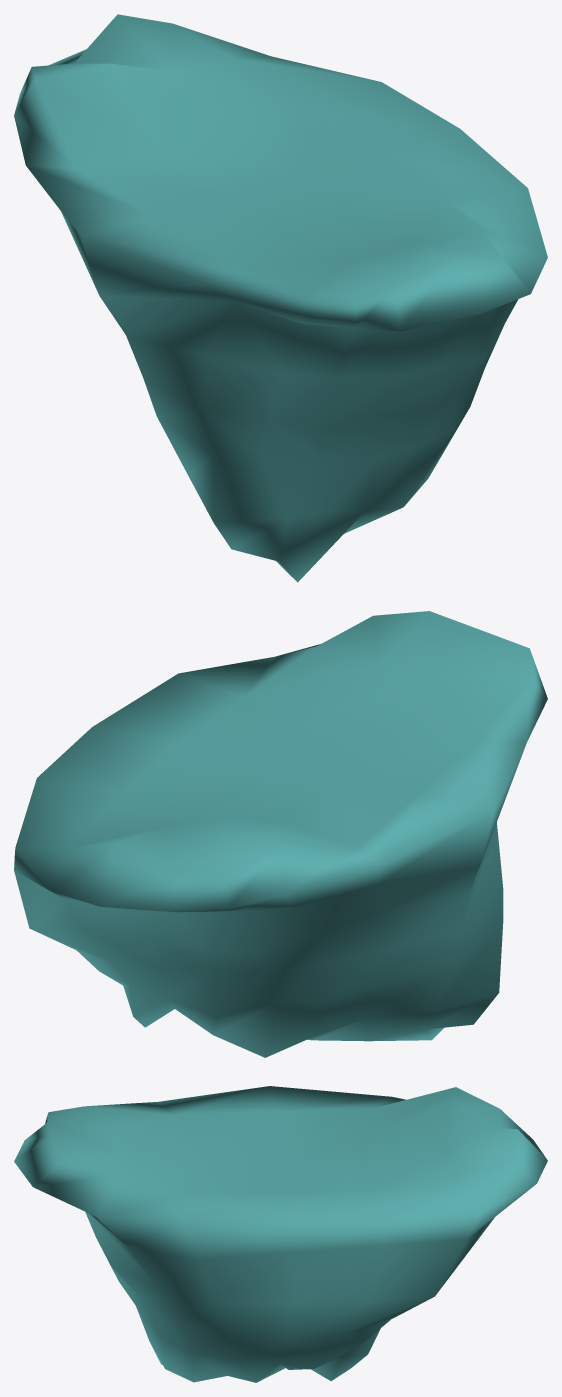
Rendered from pillarbase.fbx.
The picture shows the model from 3 angles, top to bottom: view 1: azimuth 30°, elevation 25°; view 2: azimuth 150°, elevation 25°; view 3: azimuth 270°, elevation 25°; orthographic projection. The views are drawn at different scales.
Parts seen in each view (by area): view 1: pillarbase_low; view 2: pillarbase_low; view 3: pillarbase_low.
Boxes of the visible parts, x1,y1,x2,y2 form: pillarbase_low: [14, 14, 547, 582]; pillarbase_low: [14, 611, 547, 1057]; pillarbase_low: [14, 1086, 547, 1382].
Size of the model in its own units: 23.54 by 20.79 by 38.33.
